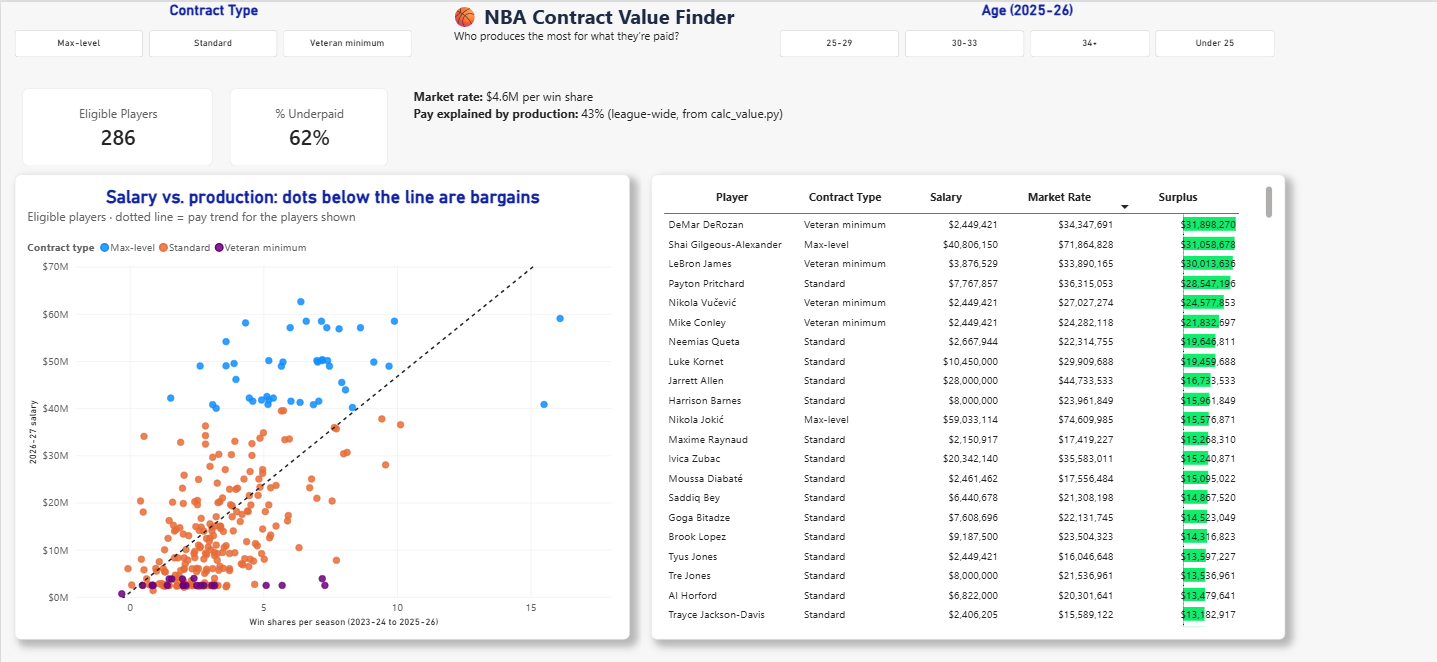

The dashboard page shown, as its layout file describes it:
{"tool":"powerbi","page":{"name":"Value Map","canvas":[1920,1080],"ordinal":0},"visuals":[{"type":"scatterChart","title":"Salary vs. production: dots below the line are bargains","fields":{"Category":["player_value.player"],"Series":["player_value.contract_type"],"X":["Sum(player_value.ws_per_season)"],"Y":["Sum(player_value.salary_2026_27)"]},"box":[18.6,230,820,620],"z":0},{"type":"tableEx","fields":{"Values":["player_value.player","player_value.contract_type","Sum(player_value.salary_2026_27)","Sum(player_value.market_salary)","Sum(player_value.surplus_value)"]},"box":[867.1,230,845.7,620],"z":1000},{"type":"advancedSlicerVisual","title":"Contract Type","fields":{"Values":["player_value.contract_type"]},"box":[18.6,0,531.4,74.3],"z":2000},{"type":"advancedSlicerVisual","title":"Age (2025-26)","fields":{"Values":["player_value.age_band"]},"box":[1038.6,0,660,74.3],"z":3000},{"type":"cardVisual","fields":{"Data":["Count(player_value.player_id)"]},"box":[28.6,115.7,254.3,104.3],"z":4000},{"type":"cardVisual","fields":{"Data":["player_value.% Underpaid"]},"box":[305.7,115.7,211.4,104.3],"z":5000},{"type":"textbox","box":[550,115.7,505.7,102.9],"z":6000},{"type":"textbox","box":[600,0,387.1,61.4],"z":6001}]}

Visuals, with their boxes on the page's 1920x1080 design canvas (x1, y1, x2, y2). These are canvas units, not pixel positions in the 1437x662 screenshot, which may show the page scaled, cropped or inside an application window:
"Salary vs. production: dots below the line are bargains" scatterChart: {"x1": 19, "y1": 230, "x2": 839, "y2": 850}
tableEx - player_value.player x player_value.contract_type: {"x1": 867, "y1": 230, "x2": 1713, "y2": 850}
"Contract Type" advancedSlicerVisual: {"x1": 19, "y1": 0, "x2": 550, "y2": 74}
"Age (2025-26)" advancedSlicerVisual: {"x1": 1039, "y1": 0, "x2": 1699, "y2": 74}
cardVisual - Count(player_value.player_id): {"x1": 29, "y1": 116, "x2": 283, "y2": 220}
cardVisual - player_value.% Underpaid: {"x1": 306, "y1": 116, "x2": 517, "y2": 220}
textbox: {"x1": 550, "y1": 116, "x2": 1056, "y2": 219}
textbox: {"x1": 600, "y1": 0, "x2": 987, "y2": 61}
